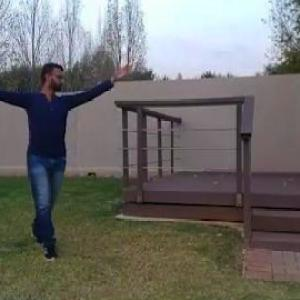takeoff: (0, 60, 132, 257)
